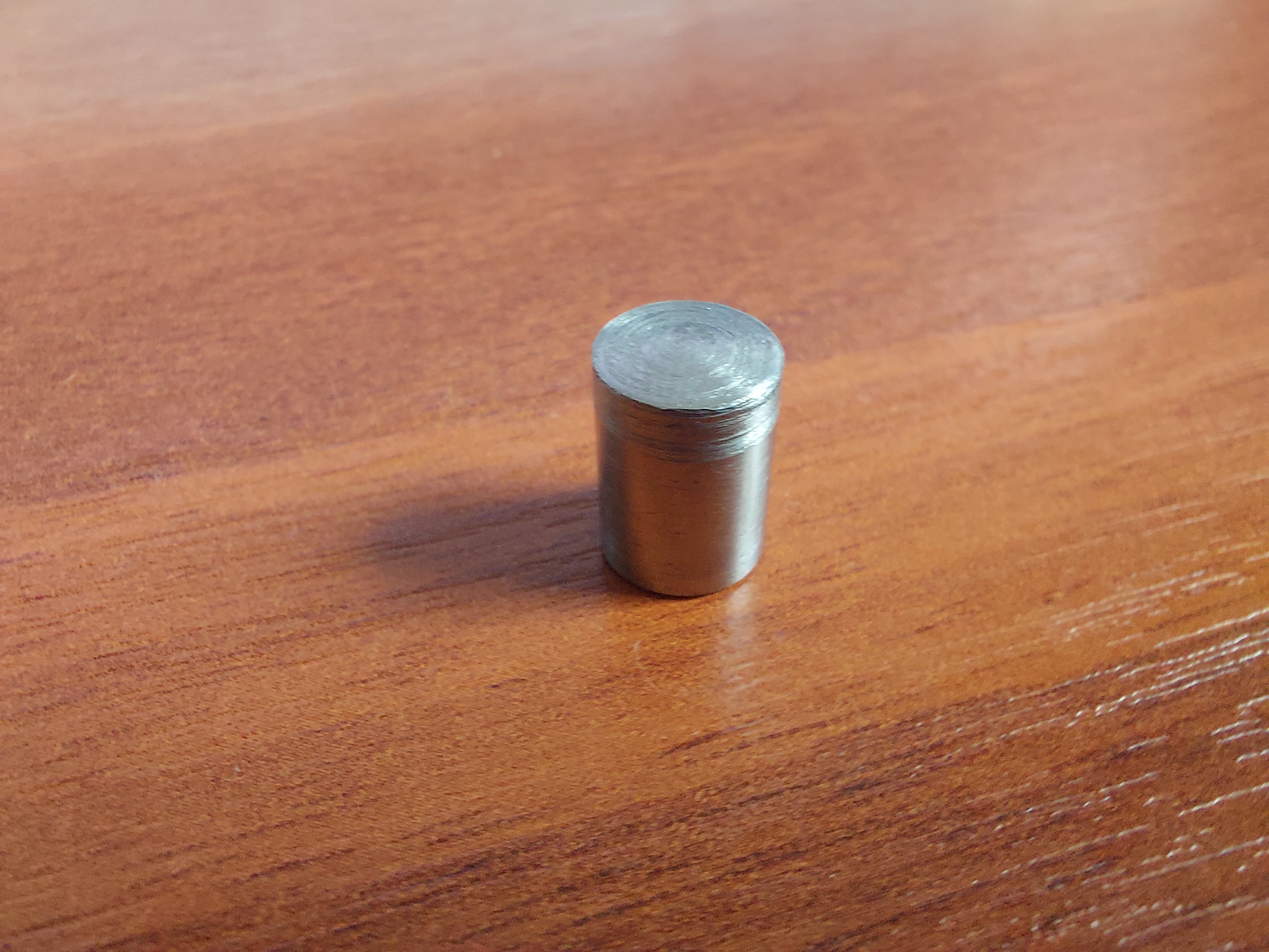tablet: (588, 304, 785, 597)
